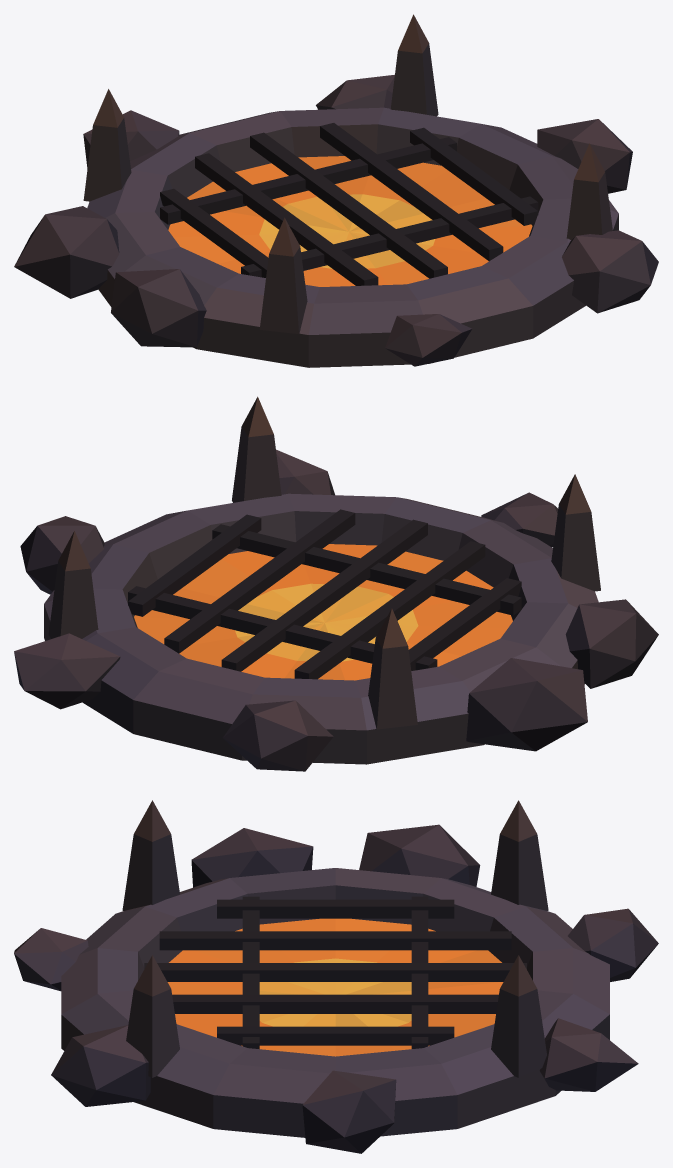
File: thermal_vent.glb
3 views of the same model, one above another, from view 1: azimuth 30°, elevation 25°; view 2: azimuth 150°, elevation 25°; view 3: azimuth 270°, elevation 25° (orthographic). The views are drawn at different scales.
Visible parts, largest first — view 1: thermal_vent; view 2: thermal_vent; view 3: thermal_vent.
Part boxes in pixels (left/top/right/bottom): thermal_vent: left=14, top=14, right=658, bottom=367; thermal_vent: left=14, top=396, right=658, bottom=771; thermal_vent: left=14, top=800, right=658, bottom=1153.
Size of the model in its own units: 3.73 by 0.8853 by 3.44.
